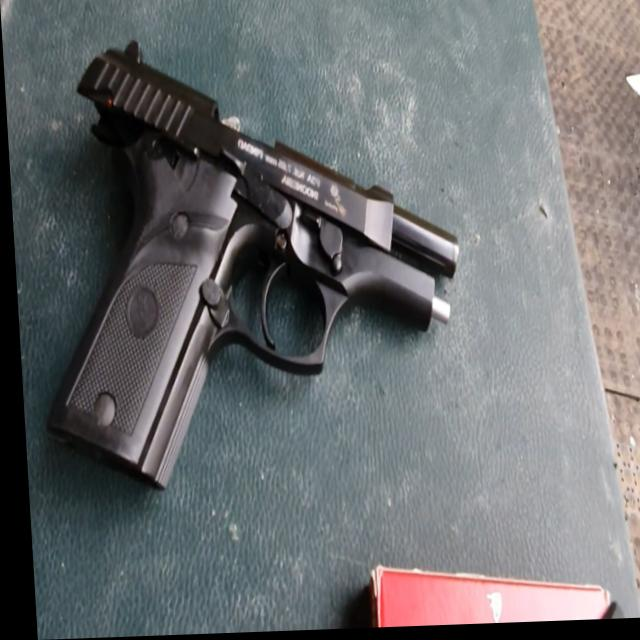handgun: (38, 19, 473, 511)
